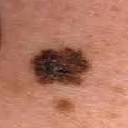Melanoma: (32, 49, 87, 83)
